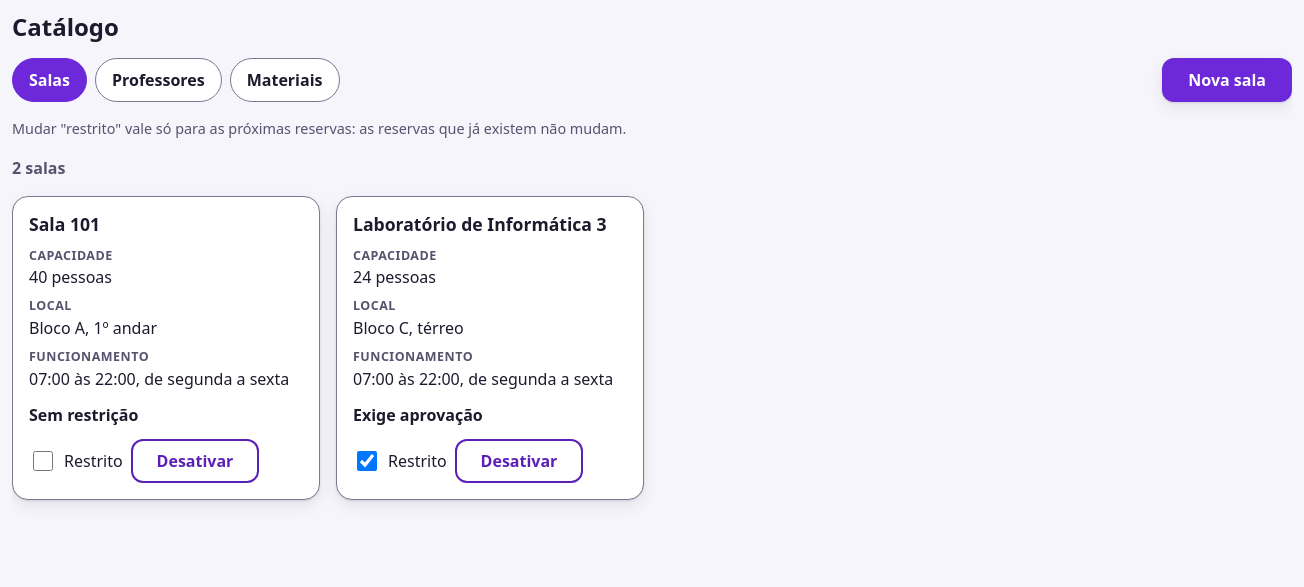
Scenario: PaginaDoCatalogo: restrito › desmarcar envia restrito falso e anuncia que deixou de exigir aprovação
Click the checkbox labelled "Restrito" below "Exige aprovação".
click(367, 461)  # box top-left (357, 451), bottom-right (377, 471)
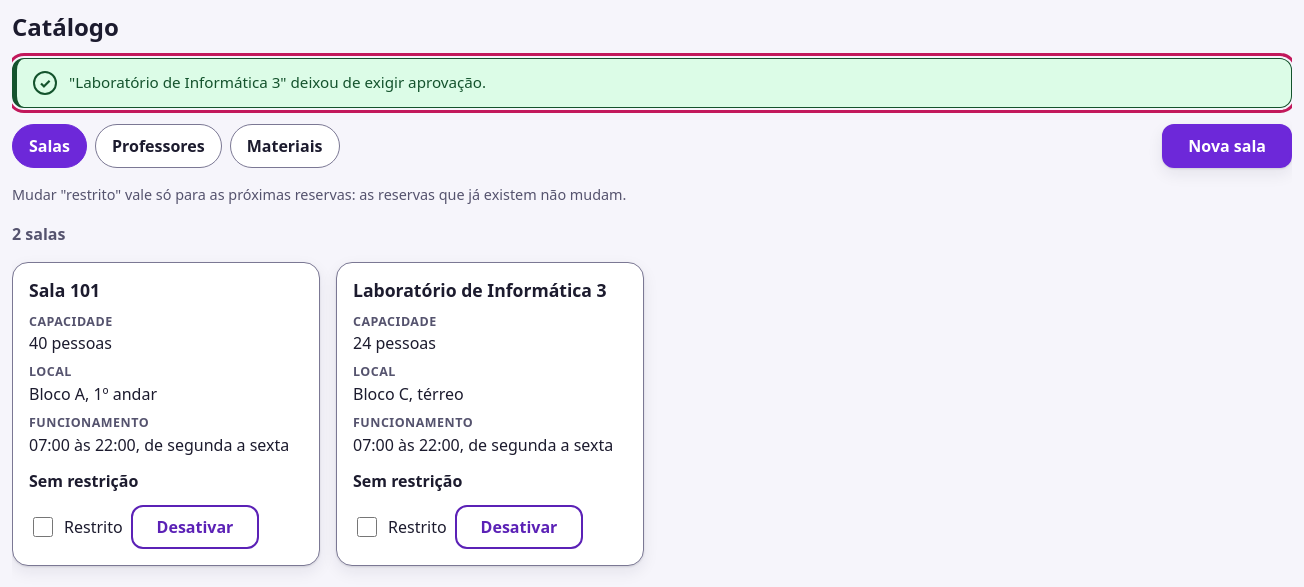
Expected: the text "\"Laboratório de Informática 3\" deixou de exigir aprovação." is shown, top-left (69, 71), bottom-right (486, 93)
